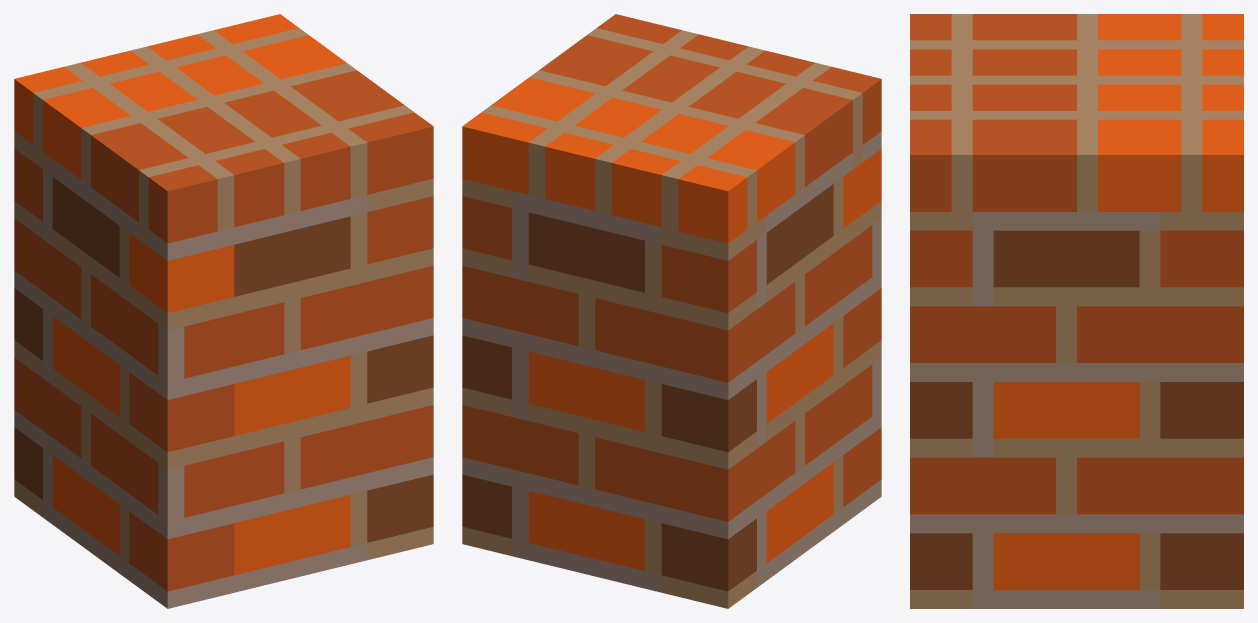
Rendered from Garden Brick Wall Edge.obj.
3 renders of one model, left to right at view 1: azimuth 30°, elevation 25°; view 2: azimuth 150°, elevation 25°; view 3: azimuth 270°, elevation 25°, orthographic. The views are drawn at different scales.
Size of the model in its own units: 1.6 by 2.4 by 1.6.
Materials: 1 (1 with a texture image).
